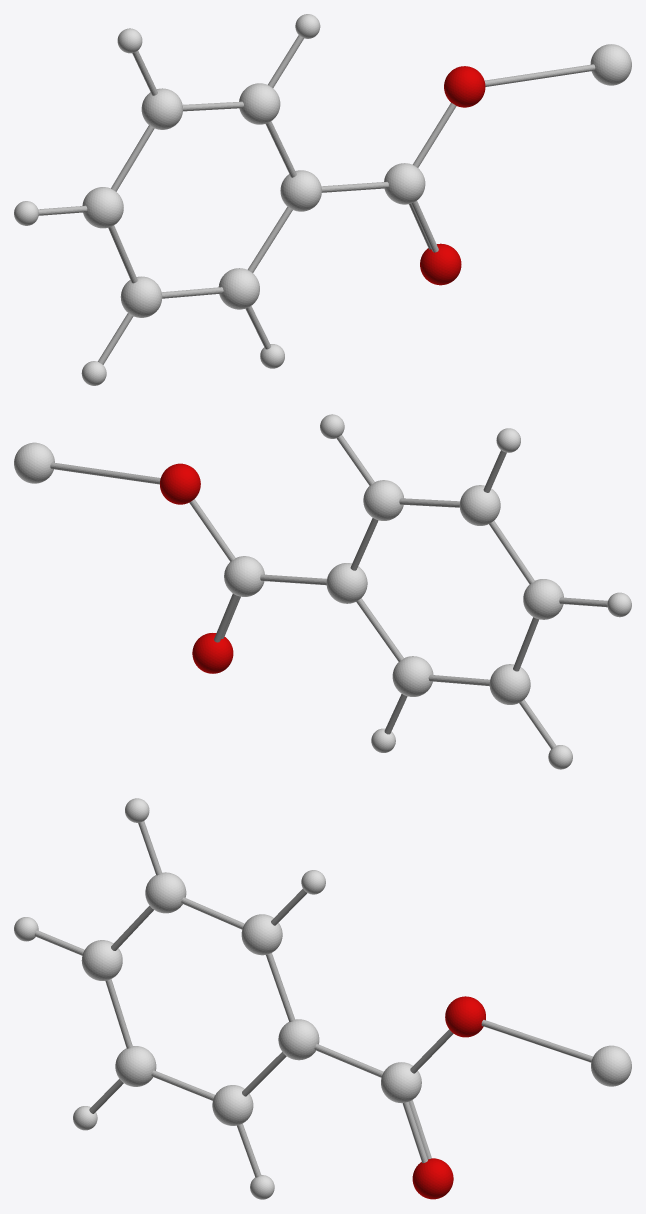
File: O_C_O_Na__c1ccccc1.glb
3 views of the same model, one above another, from view 1: azimuth 30°, elevation 25°; view 2: azimuth 150°, elevation 25°; view 3: azimuth 330°, elevation 25° (orthographic).
Visible parts, largest first — view 1: world; view 2: world; view 3: world.
Boxes of the visible parts, x1,y1,x2,y2 form: world: [14, 14, 631, 385]; world: [14, 414, 631, 769]; world: [14, 798, 631, 1199].
Size of the model in its own units: 8.58 by 4.85 by 0.6376.
